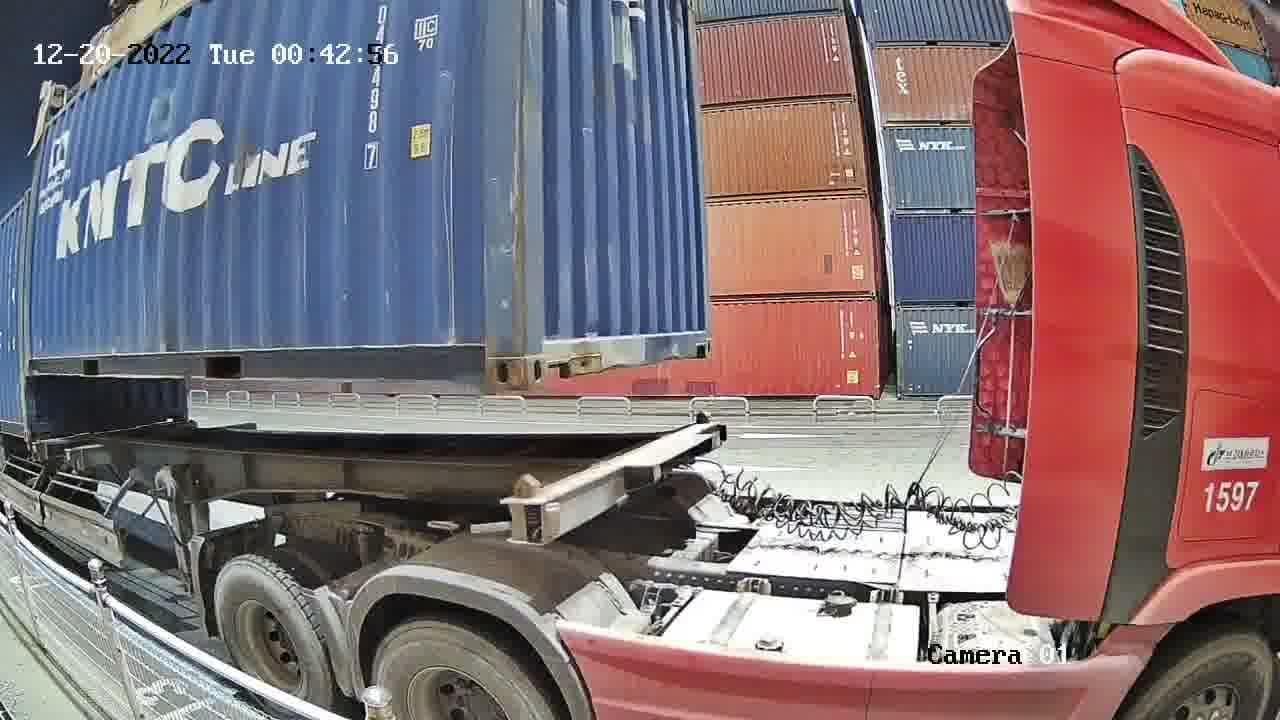Chassis: (511, 419, 725, 544)
Cone: (508, 474, 546, 541), (696, 407, 714, 426)
Hole_L: (527, 314, 575, 387)
Hole_R: (442, 322, 524, 387), (679, 306, 714, 358)
Tire: (376, 623, 550, 717), (213, 566, 326, 701)
